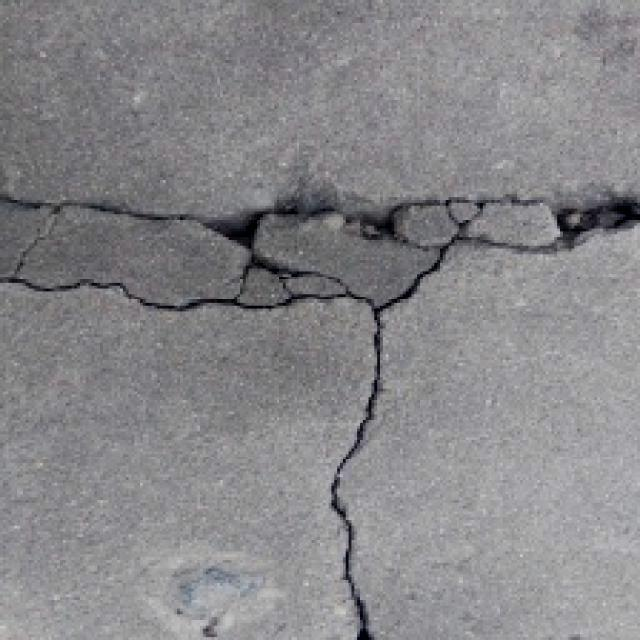SurfaceCrack: (264, 252, 432, 640)
